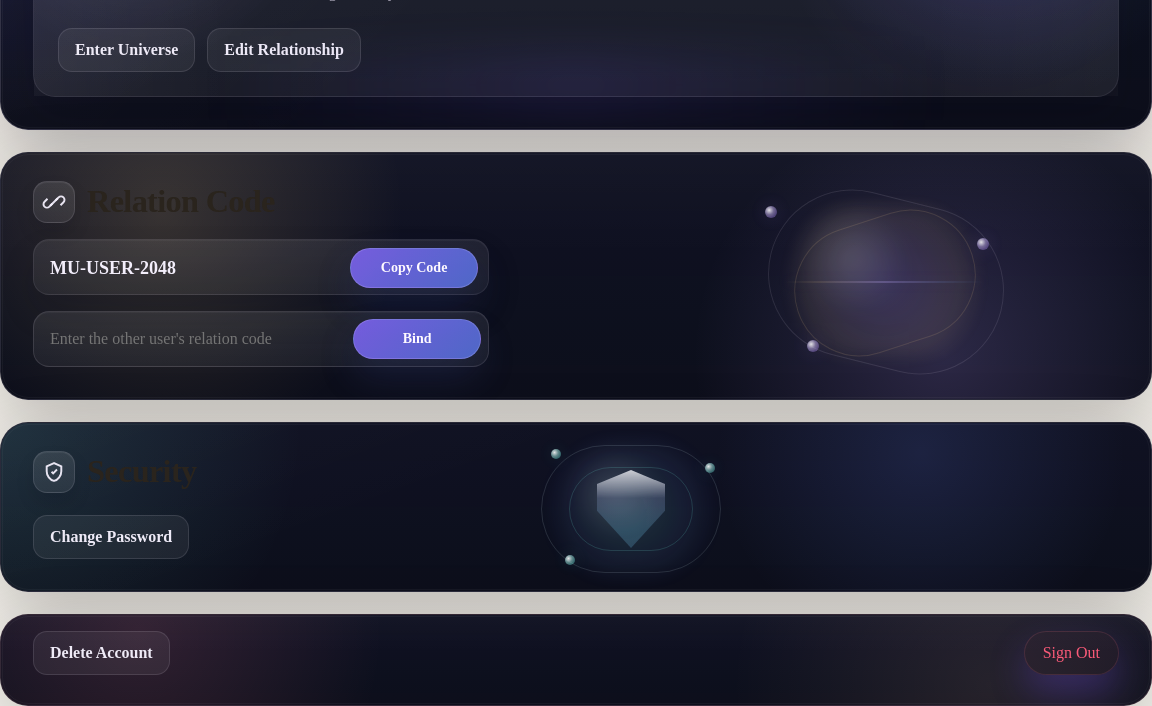
Test: AccountPage › opens a password dialog and validates matching passwords
(page scrolled)
Click the button "Change Password". click: (111, 537)
box: top-left (33, 515), bottom-right (189, 559)
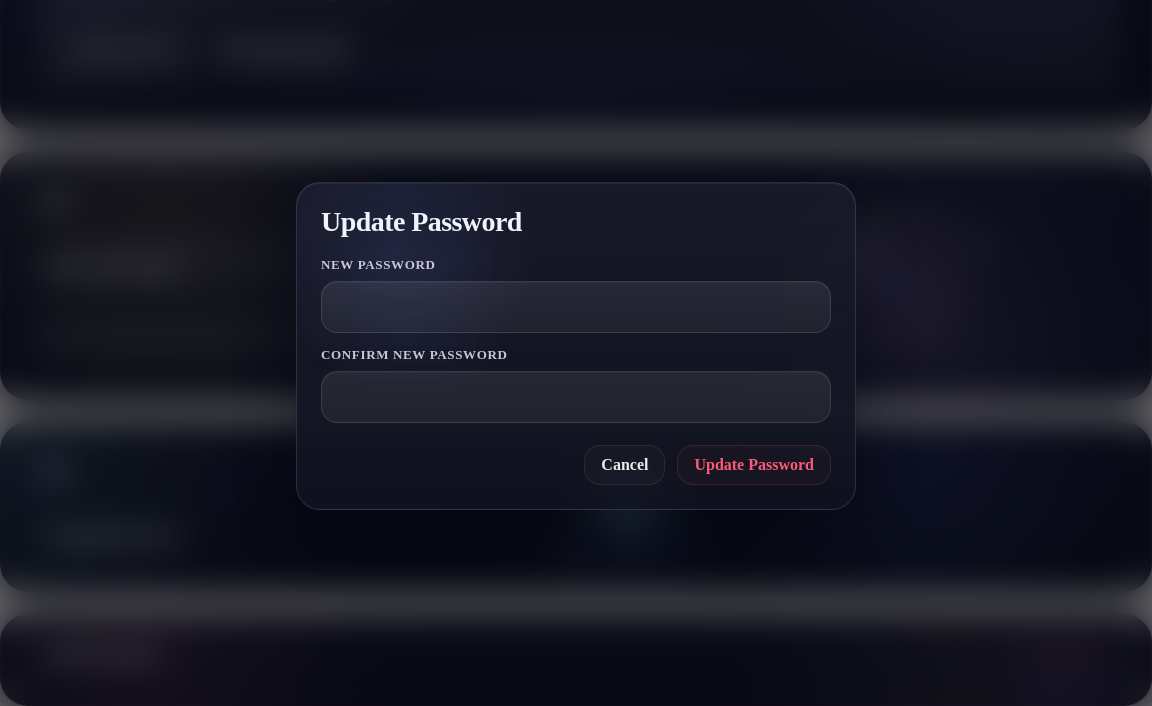
Expected: the dialog "Update Password" is shown, top-left (296, 182), bottom-right (856, 510)
Expected: the password field labelled "New Password" is shown
Expected: the password field labelled "Confirm New Password" is shown, top-left (321, 371), bottom-right (831, 423)
Type "galaxy-echo" into the password field labelled "New Password". click: (576, 307)
box: top-left (321, 281), bottom-right (831, 333)
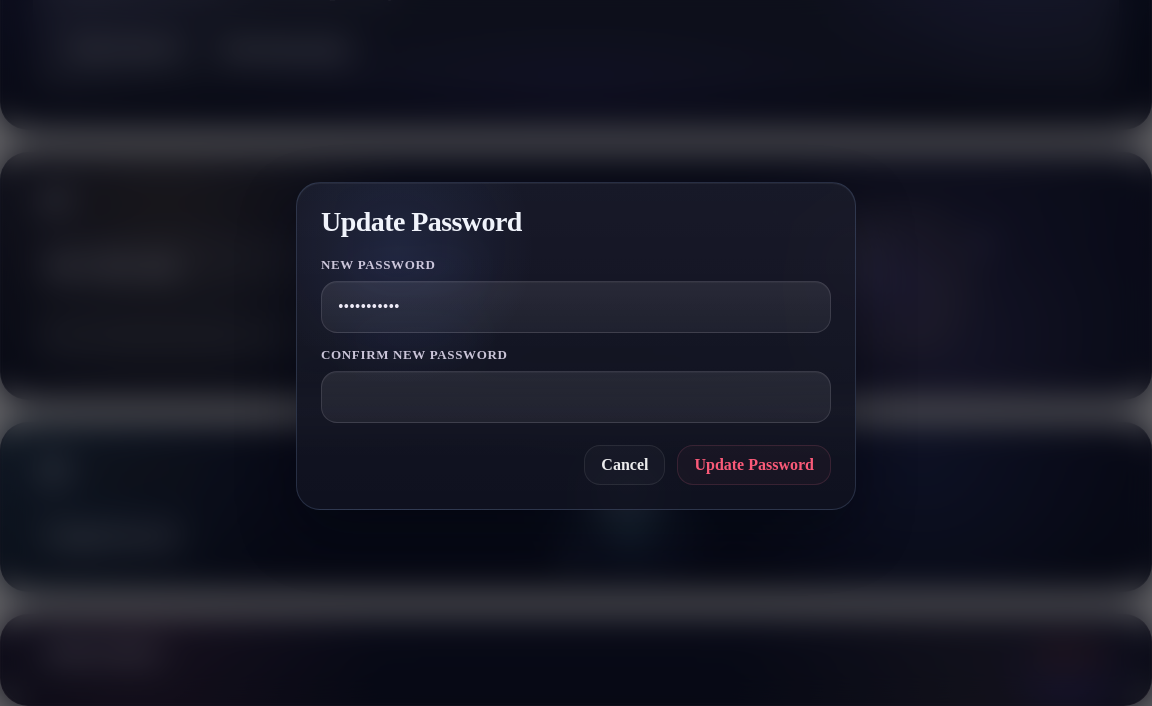
Type "galaxy-mismatch" into the password field labelled "Confirm New Password". click: (576, 397)
box: top-left (321, 371), bottom-right (831, 423)
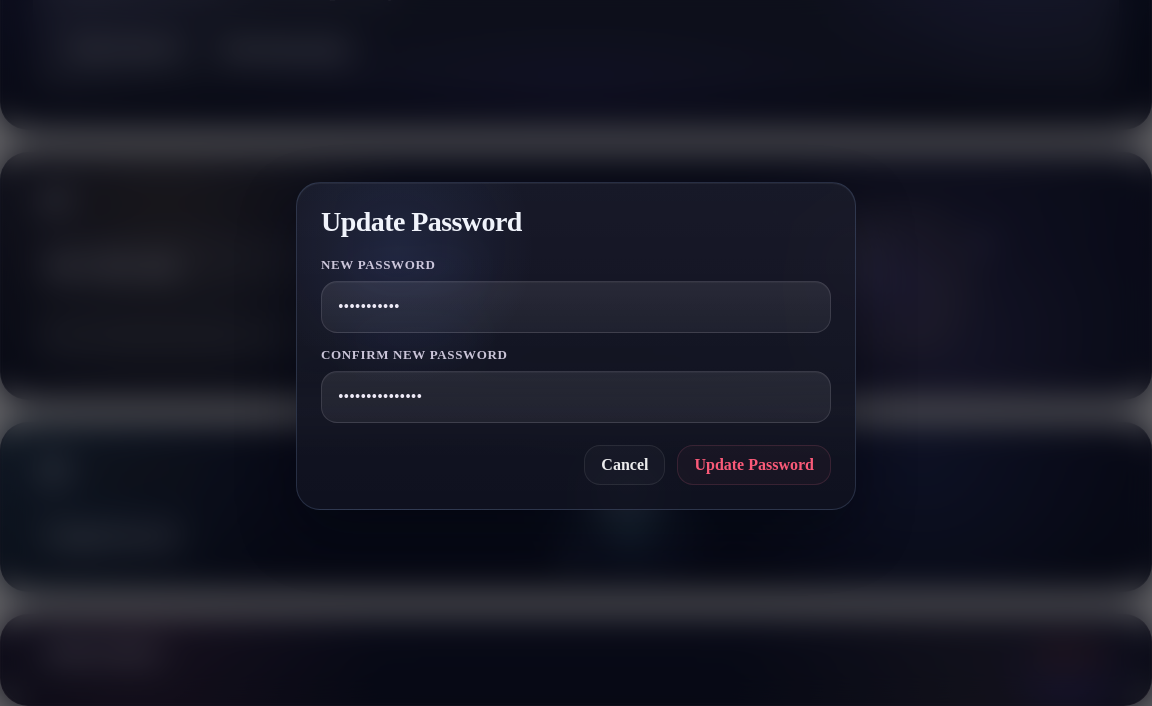
Click the button "Update Password". click: (754, 465)
box: top-left (677, 445), bottom-right (831, 485)
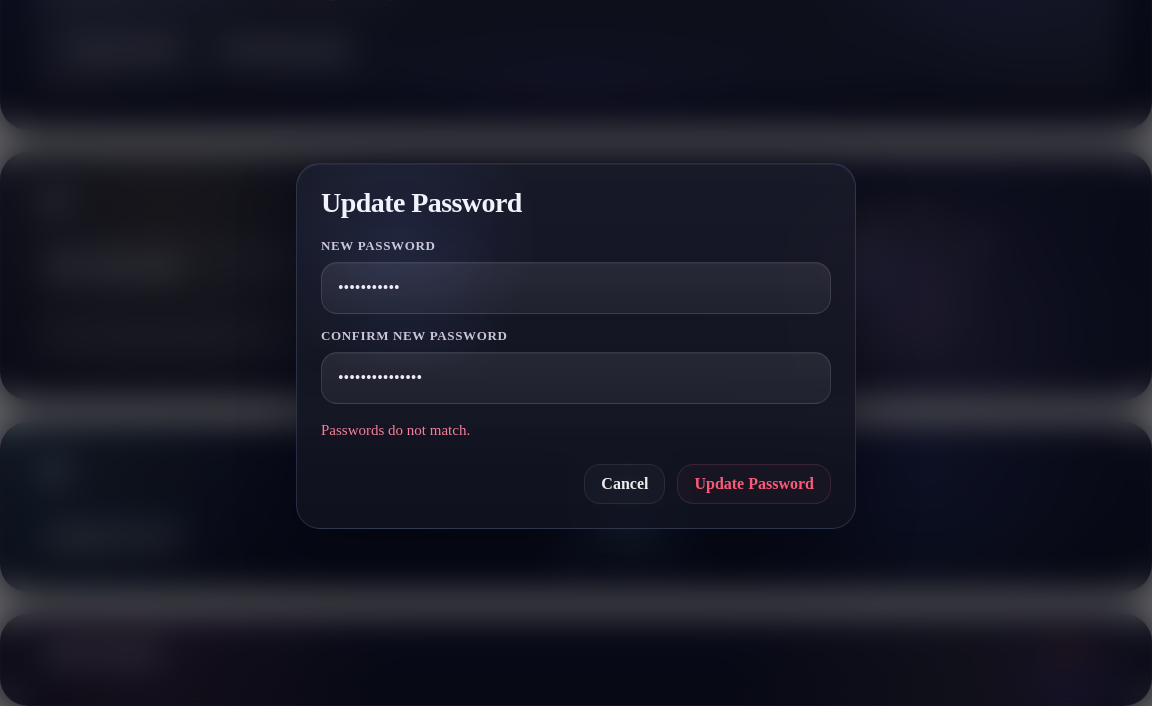
Expected: the text "Passwords do not match." is shown, top-left (321, 422), bottom-right (470, 438)
